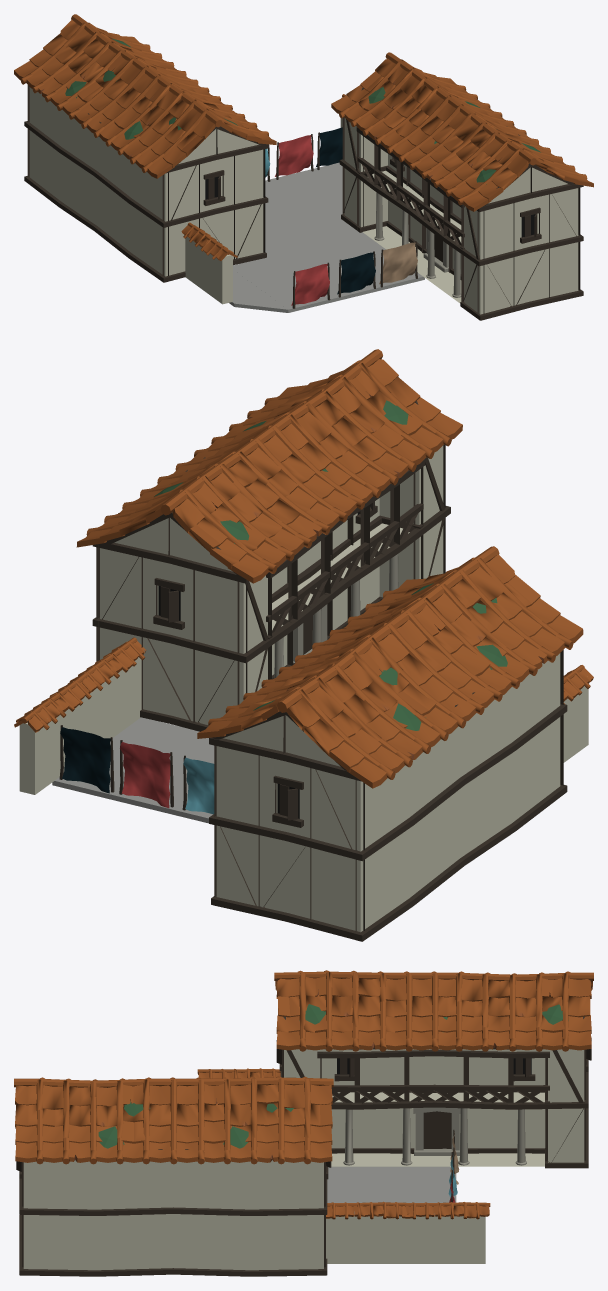
Rendered from RoomR2.fbx.
The picture shows the model from 3 angles, top to bottom: view 1: azimuth 30°, elevation 25°; view 2: azimuth 150°, elevation 25°; view 3: azimuth 270°, elevation 25°; orthographic projection. The views are drawn at different scales.
Parts seen in each view (by area): view 1: R-R2; view 2: R-R2; view 3: R-R2.
Part boxes in pixels (x1=…): R-R2: x1=14, y1=14, x2=593, y2=320; R-R2: x1=14, y1=349, x2=593, y2=941; R-R2: x1=14, y1=970, x2=593, y2=1276.
Bounding box in the file's own units: 2003 × 926 × 2800.
